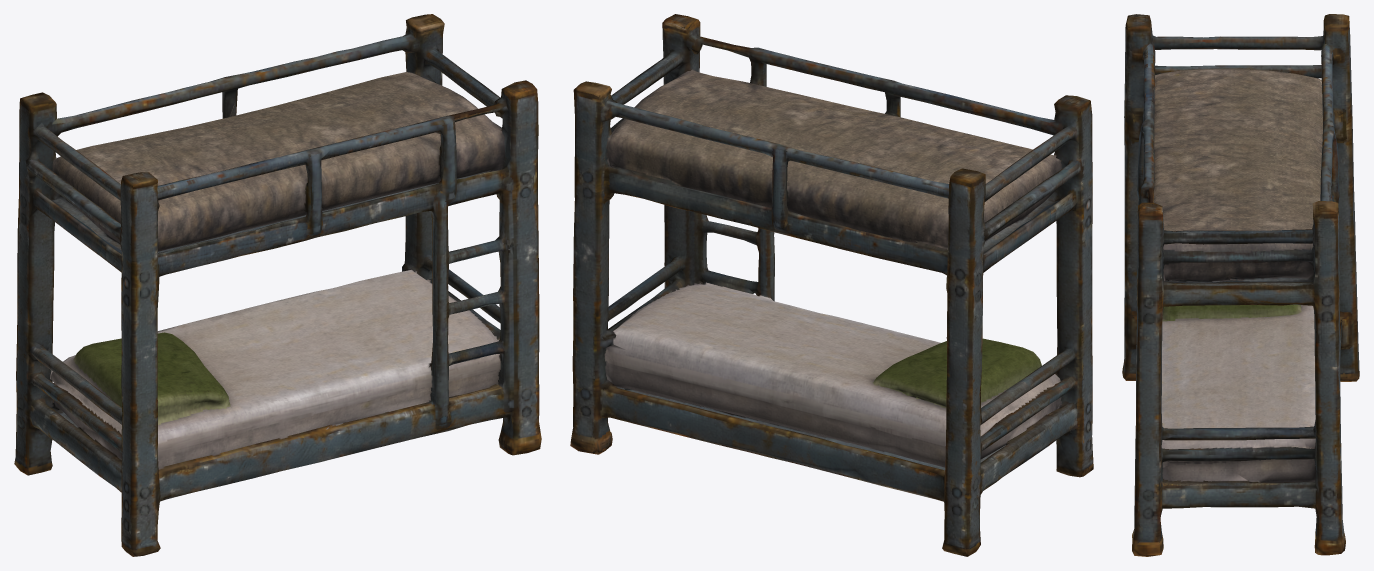
File: raw.glb
3 renders of one model, left to right at view 1: azimuth 30°, elevation 25°; view 2: azimuth 150°, elevation 25°; view 3: azimuth 270°, elevation 25°, orthographic. The views are drawn at different scales.
Bounding box in the file's own units: 0.9396 × 0.811 × 0.4868.
Materials: 1 (1 with a texture image).
